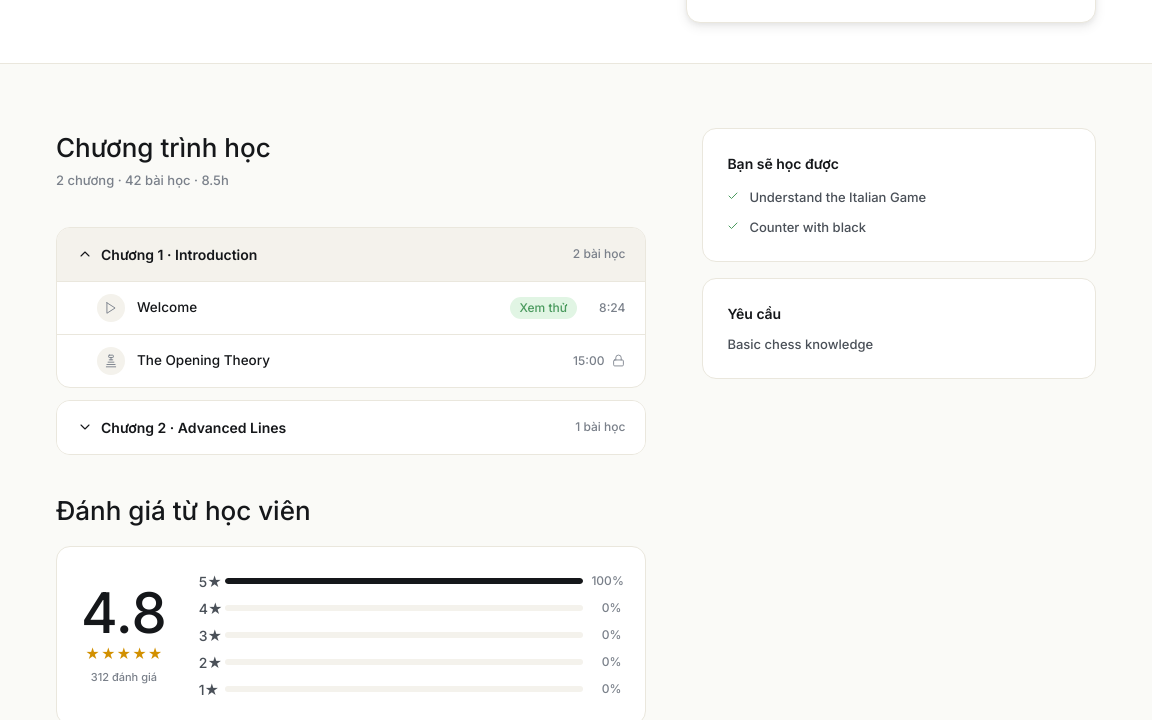
Test: CourseDetailPage › free preview interaction › clicking a lock icon shows paywall sheet
(page scrolled)
What coordinates should you click on to do the following:
click the button with test id "lock-icon-l2"
I would click on:
 (619, 360)
Its box is [612,354,625,367].
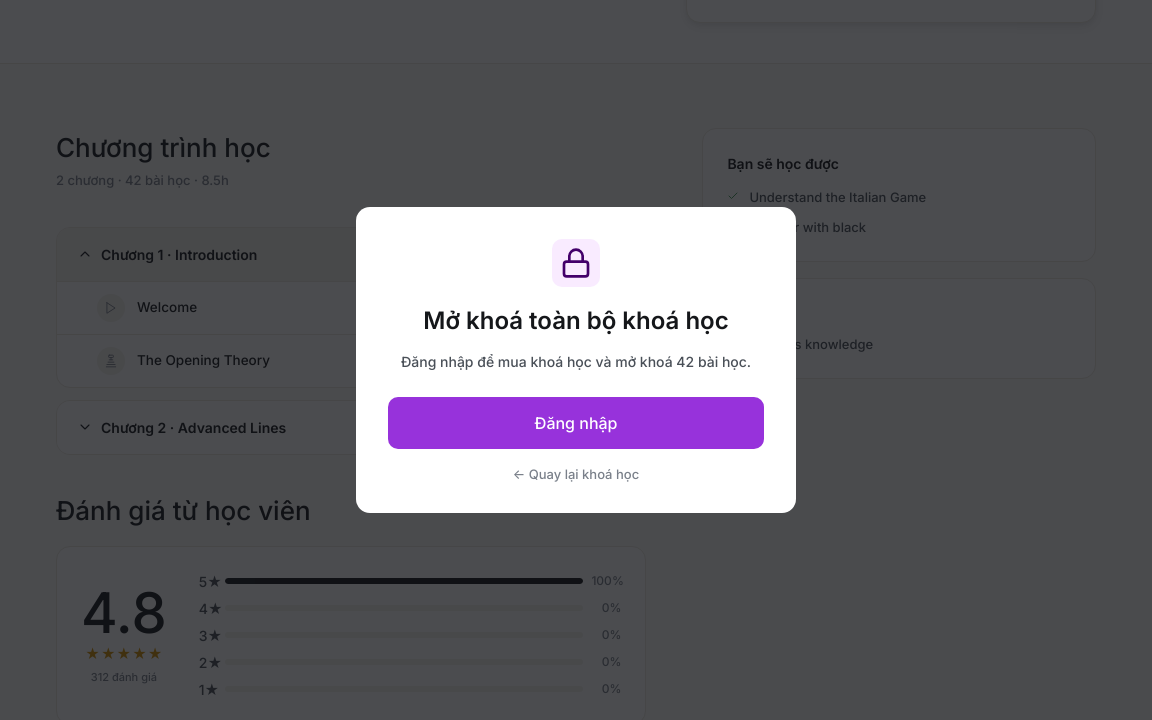
Now the heading "Mở khoá toàn bộ khoá học" is shown, box [423,306,729,335]
